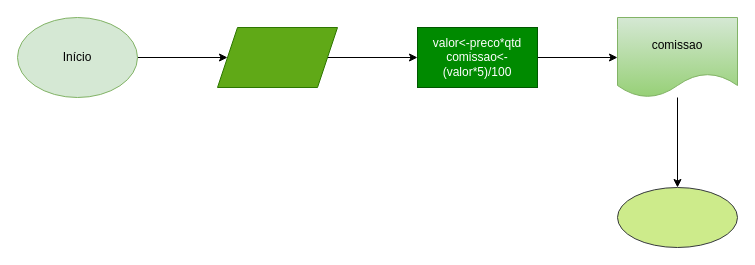
Some shapes in this 755 by 265 pixel diagram are drawn without their labels. Here are the shapes that lost their labels. From the top down, the box of each, then its label:
(216, 26, 338, 88): preco, qtd, valor, comissao
(616, 186, 738, 248): Fim
